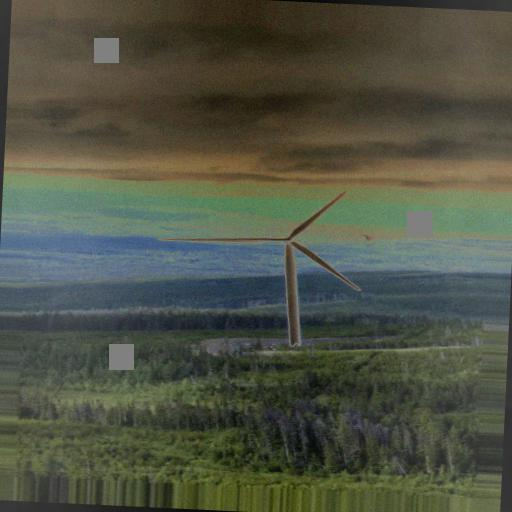wind turbine: (161, 190, 364, 351)
